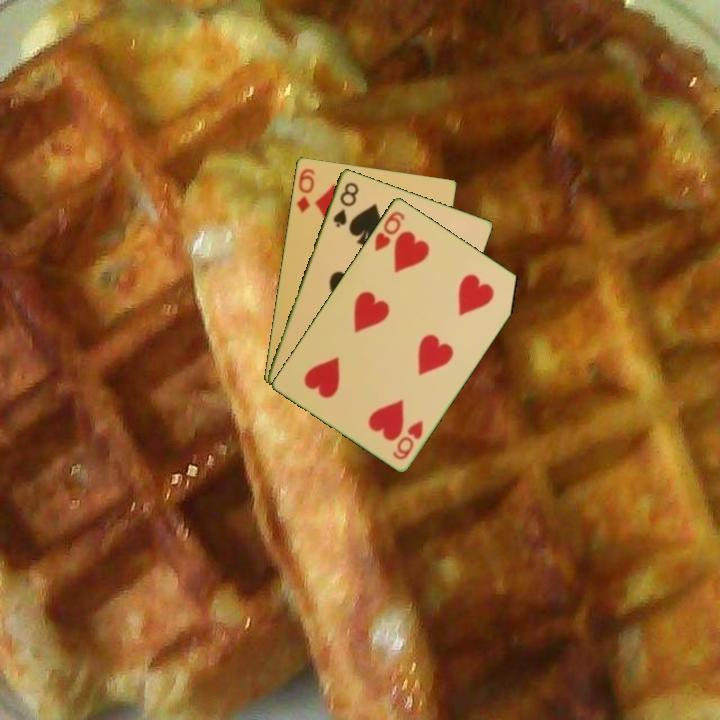6d: (293, 165, 317, 215)
6h: (371, 207, 408, 254), (389, 416, 426, 462)
8s: (329, 178, 361, 230)
